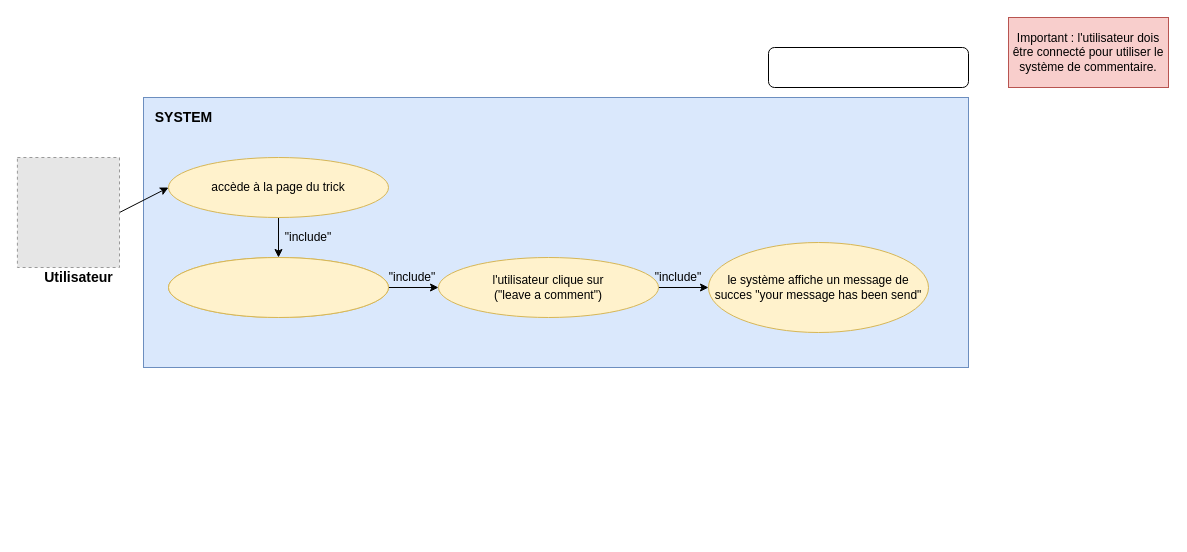
Image size: 1187x552. Some labels were removed from this diagram. Grey dashed boxes stand in for pictures. Each missing label, with the box of its shape:
l'utilisateur renseigne le formulaire de commentaire: (168, 256, 388, 318)
écrire un commentaire: (768, 46, 968, 88)
